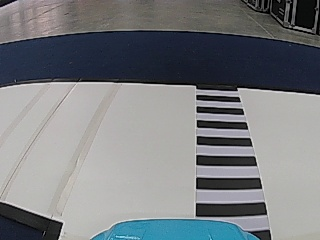CrossWalk: (192, 84, 270, 218)
